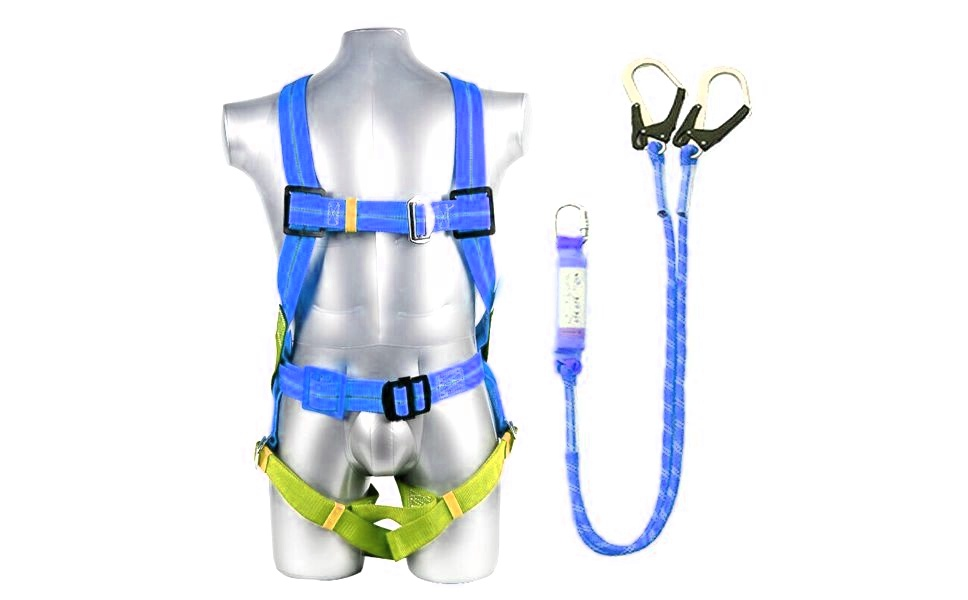safety belt: (236, 88, 527, 564)
